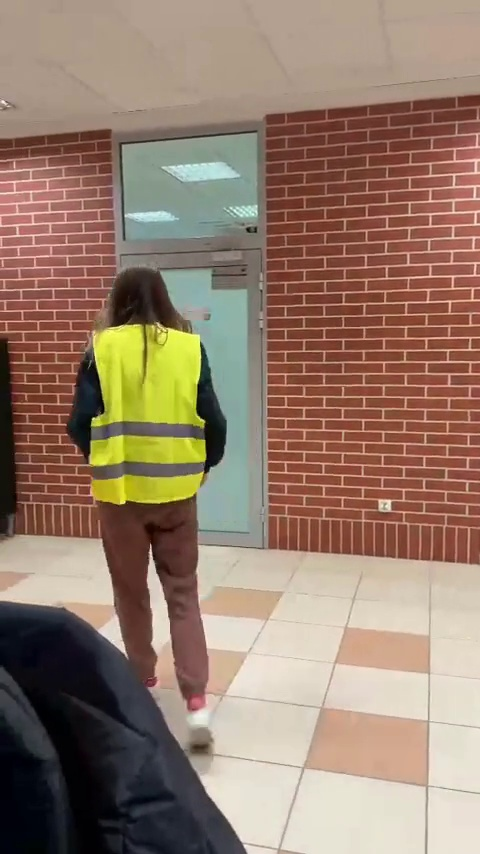vest: (66, 260, 240, 747)
